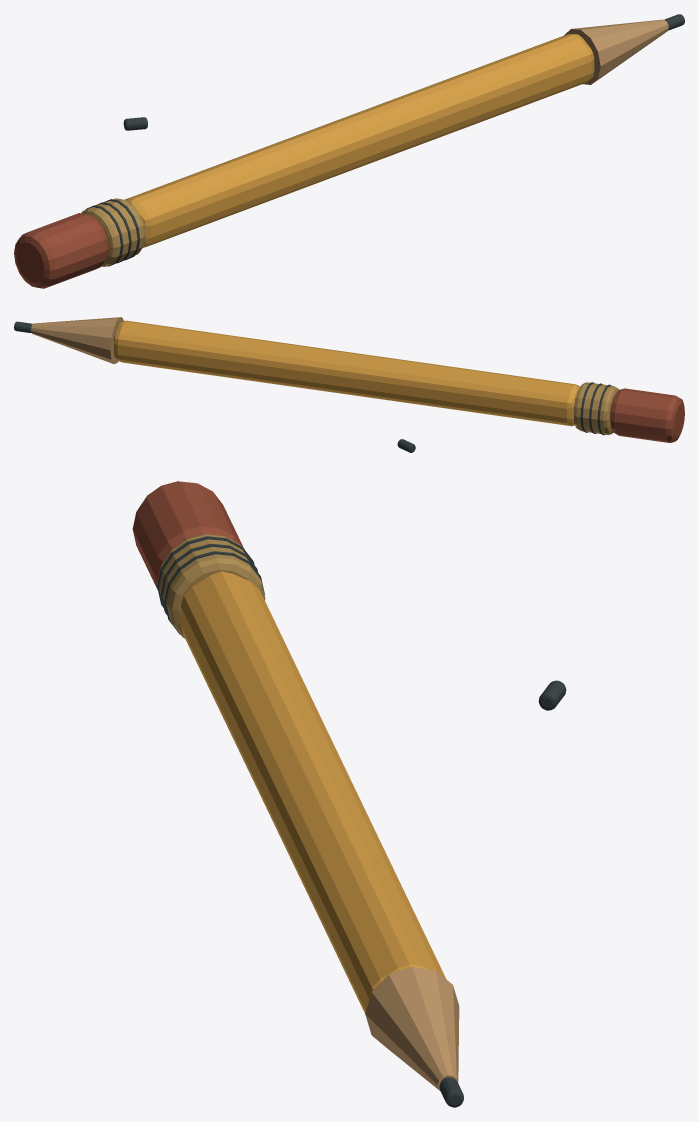
The model's file is prop_yellow_pencil.glb.
The picture shows the model from 3 angles, top to bottom: view 1: azimuth 30°, elevation 25°; view 2: azimuth 150°, elevation 25°; view 3: azimuth 270°, elevation 25°; orthographic projection. The views are drawn at different scales.
Parts seen in each view (by area): view 1: yellow_pencil; view 2: yellow_pencil; view 3: yellow_pencil.
Part boxes in pixels (bbox=[...]): yellow_pencil: bbox=[14, 14, 684, 288]; yellow_pencil: bbox=[14, 317, 684, 452]; yellow_pencil: bbox=[132, 481, 566, 1107].
Bounding box in the file's own units: 0.9217 × 0.068 × 0.2893.
